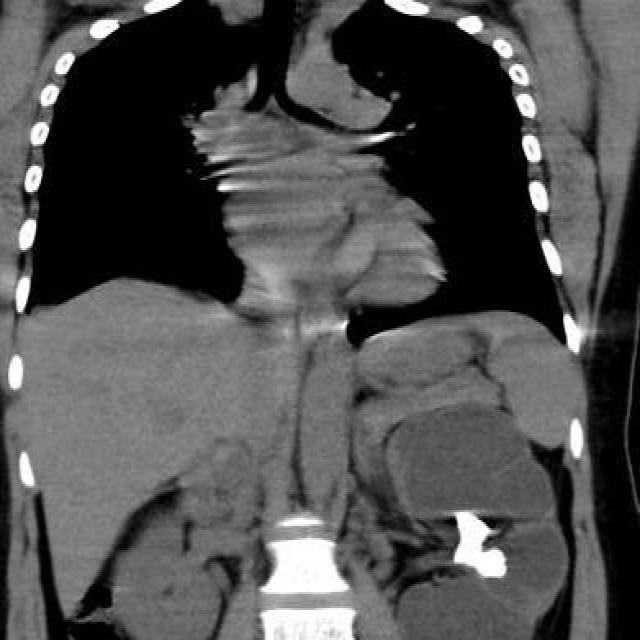Tas_Var: (450, 506, 514, 588)
